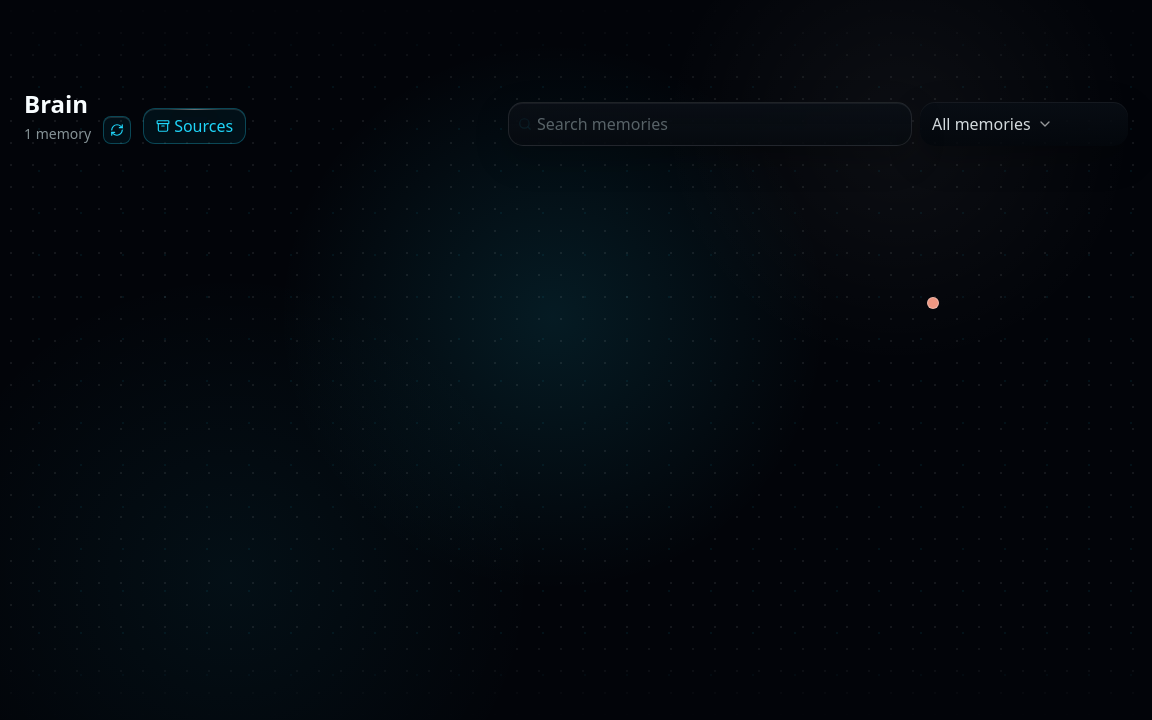
Test case: BrainPage › opens exact agent skill source content from the Brain source library
Click the button with aria-label "Open brain sources": point(195, 126) [143,108,246,144]
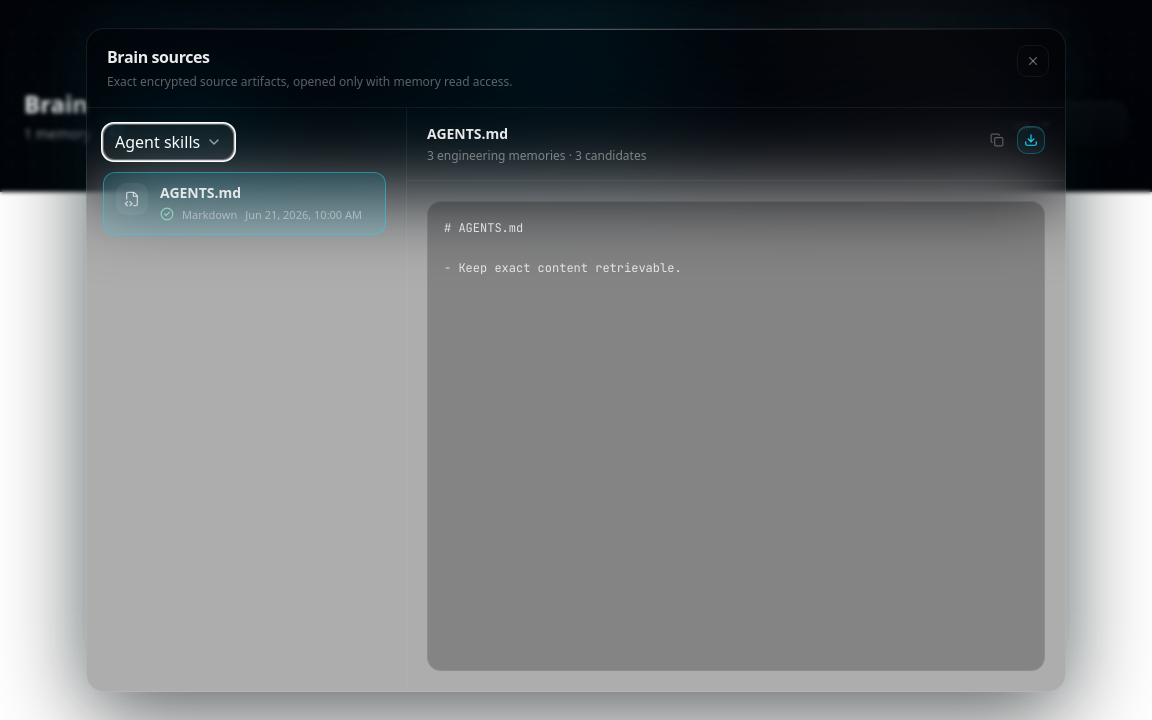
Now the text "AGENTS.md" is shown, box [160,183,241,202]
Now the text "# AGENTS.md - Keep exact content retrievable." is shown, box [427,201,1045,671]
Now the button named "Copy AGENTS.md" is shown, box [981,124,1013,156]
